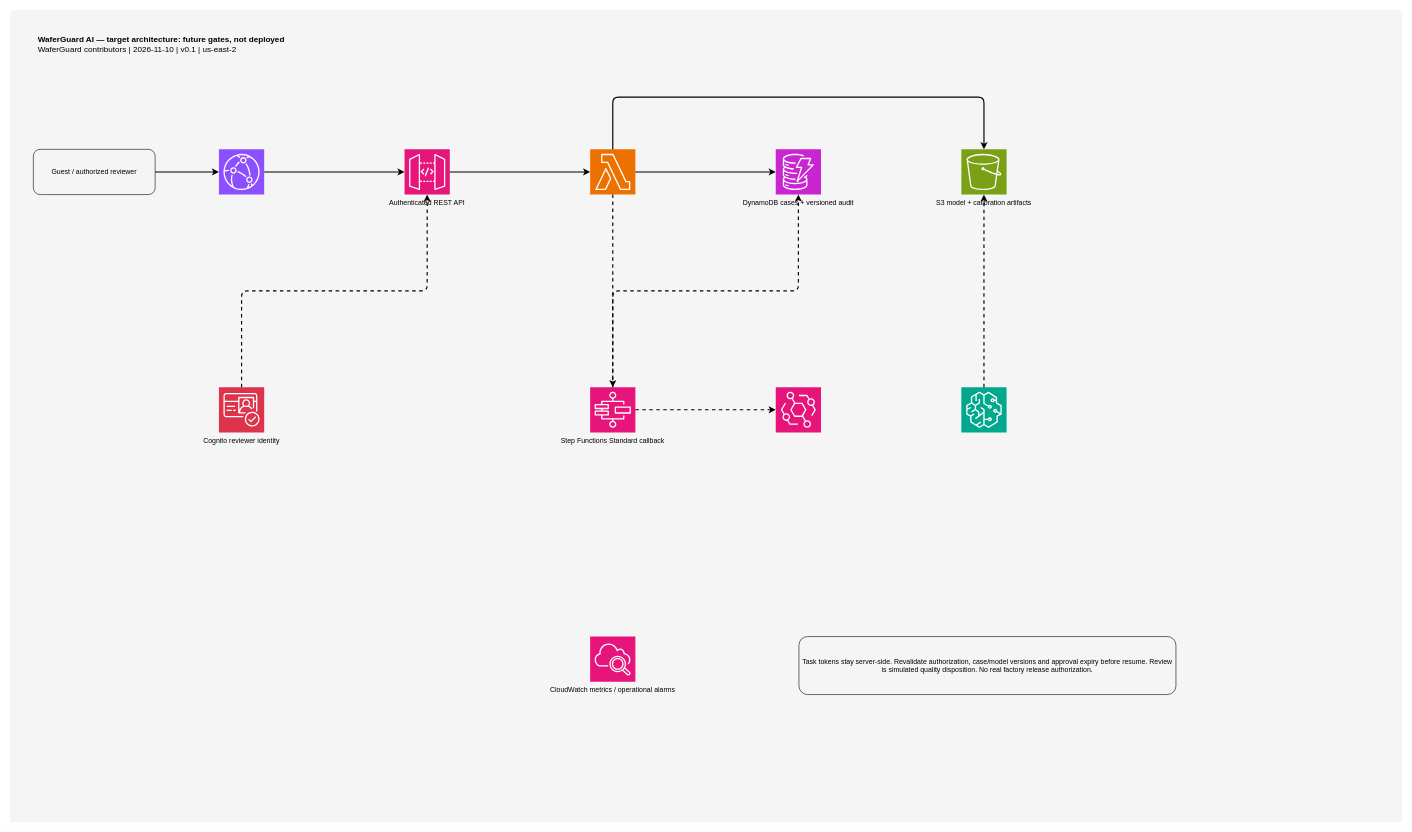
Some shapes in this 1412 by 832 pixel diagram are drawn without their labels. Here are the shapes that lost their labels. From the top down, the centre of each, then its label:
At pixel 241 172: "React / S3 + CloudFront".
At pixel 612 172: "FastAPI / Lambda CPU inference".
At pixel 798 409: "EventBridge + SQS / DLQ".
At pixel 984 409: "Offline training / model registry".
